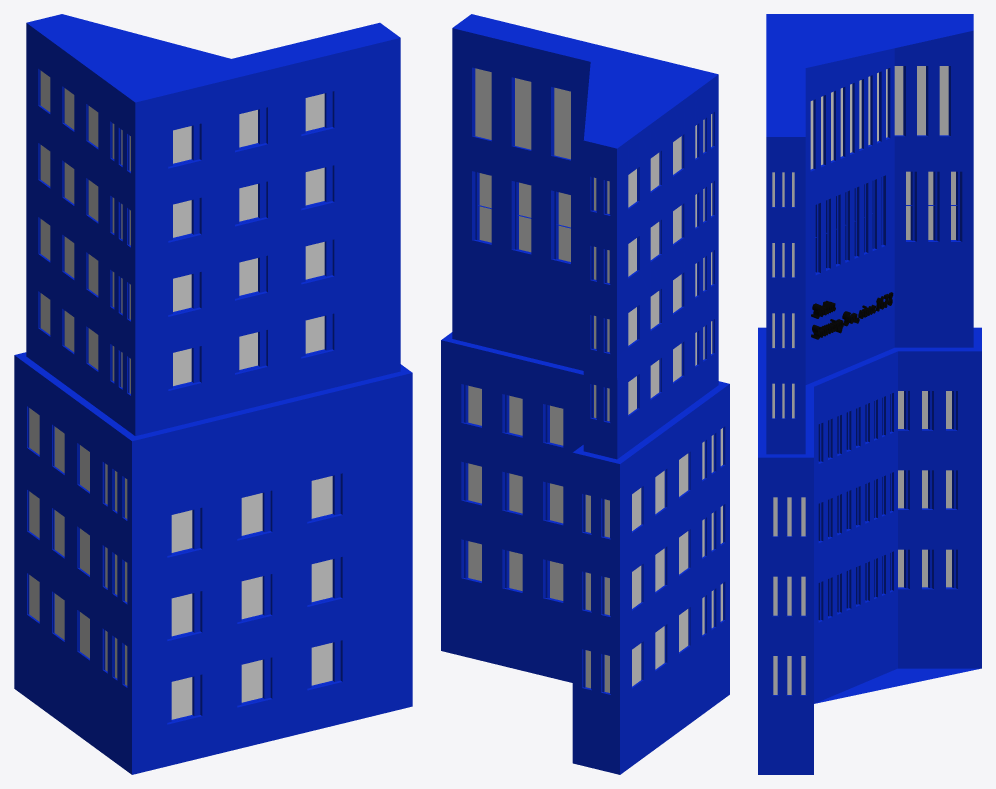
Rendered from isetta_HQ.fbx.
3 views of the same model, side by side, from view 1: azimuth 30°, elevation 25°; view 2: azimuth 150°, elevation 25°; view 3: azimuth 270°, elevation 25° (orthographic). The views are drawn at different scales.
Parts seen in each view (by area): view 1: Vert; view 2: Vert; view 3: Vert, Text.
Part boxes in pixels (x1,y1,x2,y2): Vert: (14, 14, 412, 774); Vert: (441, 14, 729, 774); Vert: (758, 14, 981, 774); Text: (811, 292, 893, 339).
Bounding box in the file's own units: 440 × 1000 × 320.
